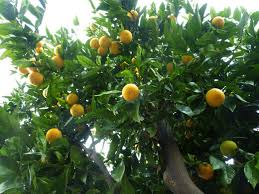orange: (204, 85, 227, 108), (121, 82, 141, 102), (219, 139, 239, 158), (45, 126, 63, 144), (27, 70, 46, 86), (118, 28, 133, 46), (68, 105, 83, 117), (98, 36, 112, 48), (62, 92, 77, 103)
